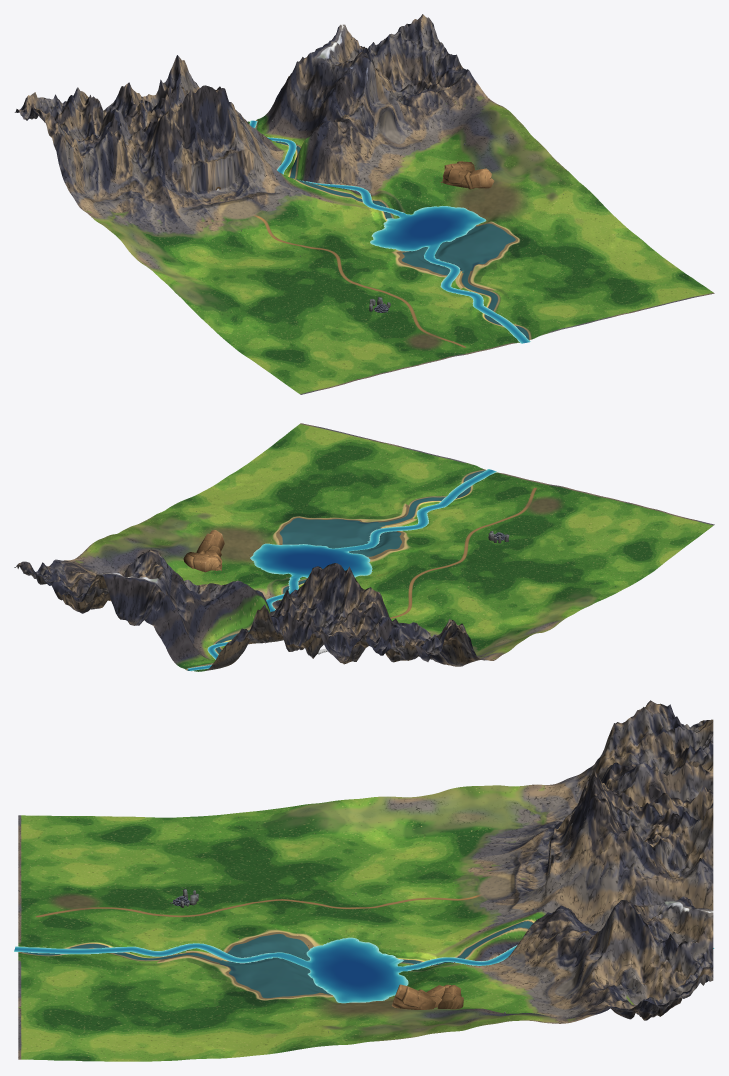
Rendered from Terrain.fbx.
3 views of the same model, one above another, from view 1: azimuth 30°, elevation 25°; view 2: azimuth 150°, elevation 25°; view 3: azimuth 270°, elevation 25° (orthographic). The views are drawn at different scales.
Visible parts, largest first — view 1: Terrain_Tile_13, Terrain_Tile_34, Terrain_Tile_03, Terrain_Tile_04, Terrain_Tile_44, Terrain_Tile_33, Terrain_Tile_43, Terrain_Tile_23, Terrain_Tile_41, Terrain_Tile_42, Terrain_Tile_00, Terrain_Tile_40 (+21 smaller); view 2: Terrain_Tile_34, Terrain_Tile_14, Terrain_Tile_1S, Terrain_Tile_0S, Terrain_Tile_11, Terrain_Tile_4S, Terrain_Tile_3S, Terrain_Tile_30, Terrain_Tile_00, Terrain_Tile_40, Terrain_Tile_10, Terrain_Tile_2S (+23 smaller); view 3: Terrain_Tile_04, Terrain_Tile_24, Terrain_Tile_02, Terrain_Tile_44, Terrain_Tile_33, Terrain_Tile_23, Terrain_Tile_01, Terrain_Tile_4S, Terrain_Tile_30, Terrain_Tile_3S, Terrain_Tile_40, Terrain_Tile_12 (+22 smaller).
Boxes of the visible parts, box(x1,y1,x2,y2) form: Terrain_Tile_13: box(145, 85, 274, 229); Terrain_Tile_34: box(262, 24, 392, 147); Terrain_Tile_03: box(62, 155, 191, 237); Terrain_Tile_04: box(14, 87, 144, 174); Terrain_Tile_44: box(346, 14, 475, 107); Terrain_Tile_33: box(322, 95, 440, 192); Terrain_Tile_43: box(393, 81, 523, 166); Terrain_Tile_23: box(231, 106, 357, 208); Terrain_Tile_41: box(489, 174, 618, 241); Terrain_Tile_42: box(441, 125, 570, 204); Terrain_Tile_00: box(205, 302, 335, 360); Terrain_Tile_40: box(537, 221, 666, 279); Terrain_Tile_34: box(97, 550, 227, 666); Terrain_Tile_14: box(263, 567, 383, 664); Terrain_Tile_1S: box(502, 484, 631, 539); Terrain_Tile_0S: box(584, 503, 714, 560); Terrain_Tile_11: box(406, 551, 535, 607); Terrain_Tile_4S: box(253, 423, 383, 478); Terrain_Tile_3S: box(336, 442, 465, 497); Terrain_Tile_30: box(288, 479, 418, 533); Terrain_Tile_00: box(537, 540, 666, 591); Terrain_Tile_40: box(206, 460, 335, 511); Terrain_Tile_10: box(454, 519, 583, 571); Terrain_Tile_2S: box(419, 463, 548, 518); Terrain_Tile_04: box(597, 700, 713, 801); Terrain_Tile_24: box(597, 808, 713, 931); Terrain_Tile_02: box(366, 786, 481, 863); Terrain_Tile_44: box(597, 915, 713, 1020); Terrain_Tile_33: box(481, 907, 597, 1002); Terrain_Tile_23: box(481, 817, 597, 959); Terrain_Tile_01: box(250, 798, 365, 862); Terrain_Tile_4S: box(18, 1009, 134, 1061); Terrain_Tile_30: box(134, 960, 249, 1011); Terrain_Tile_3S: box(18, 960, 134, 1011); Terrain_Tile_40: box(134, 1008, 249, 1061); Terrain_Tile_12: box(366, 858, 481, 913).
Bounding box in the file's own units: 70000 × 16893 × 84733.
